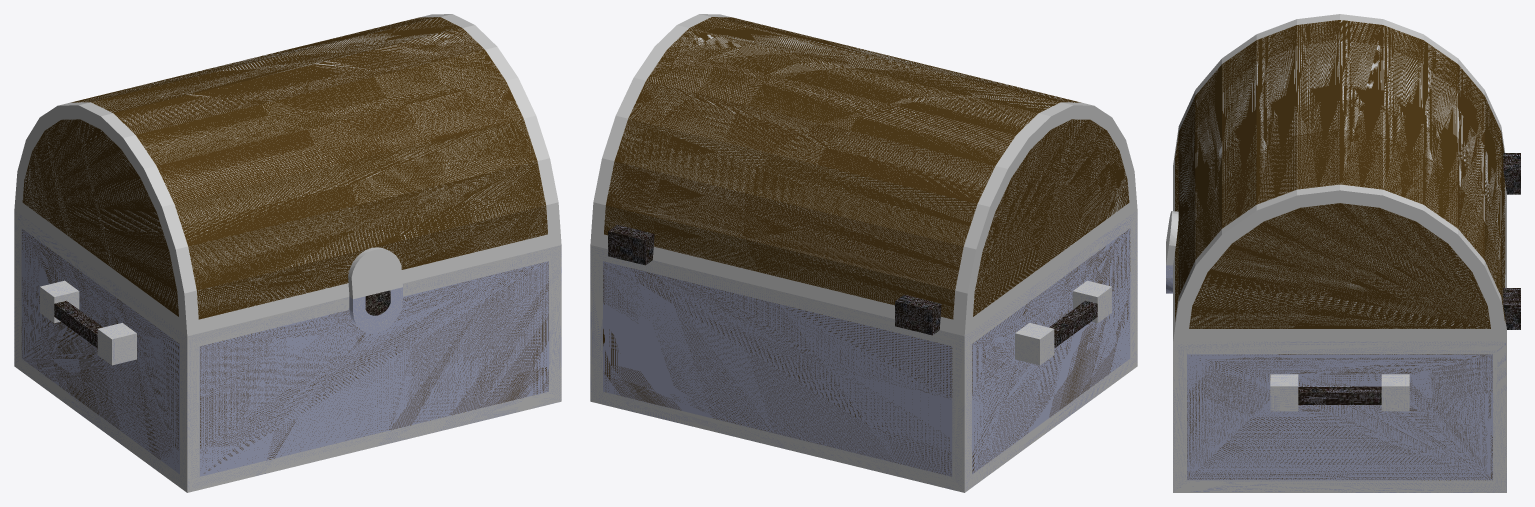
Rendered from ACC_TREASUREBOX.fbx.
The picture shows the model from 3 angles, left to right: view 1: azimuth 30°, elevation 25°; view 2: azimuth 150°, elevation 25°; view 3: azimuth 270°, elevation 25°; orthographic projection. The views are drawn at different scales.
Parts seen in each view (by area): view 1: Group11, Group8, Group3, Group10, Group12, Group4; view 2: Group11, Group8, Group3, Group10, Group4; view 3: Group11, Group8, Group10, Group3, Group4, Group13.
Part boxes in pixels (bbox=[...]): Group11: bbox=[22, 17, 547, 319]; Group8: bbox=[21, 228, 548, 476]; Group3: bbox=[14, 210, 561, 492]; Group10: bbox=[14, 14, 561, 336]; Group12: bbox=[351, 249, 402, 315]; Group4: bbox=[349, 287, 402, 332]; Group11: bbox=[604, 17, 1129, 319]; Group8: bbox=[603, 228, 1130, 476]; Group3: bbox=[590, 210, 1137, 492]; Group10: bbox=[590, 14, 1137, 336]; Group4: bbox=[608, 224, 941, 335]; Group11: bbox=[1175, 20, 1505, 328]; Group8: bbox=[1187, 354, 1492, 480]; Group10: bbox=[1173, 14, 1506, 341]; Group3: bbox=[1173, 341, 1506, 492]; Group4: bbox=[1166, 153, 1520, 329]; Group13: bbox=[1166, 211, 1178, 265].
Size of the model in its own units: 34 by 24 by 25.5.
